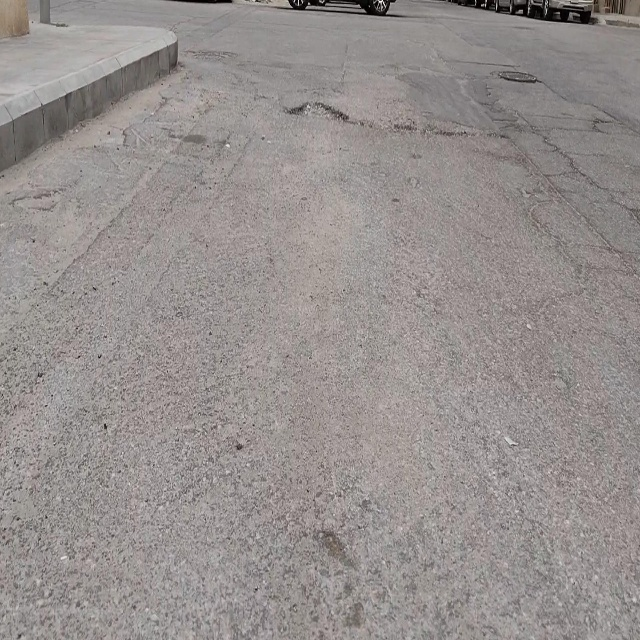pothole: (287, 100, 351, 124)
